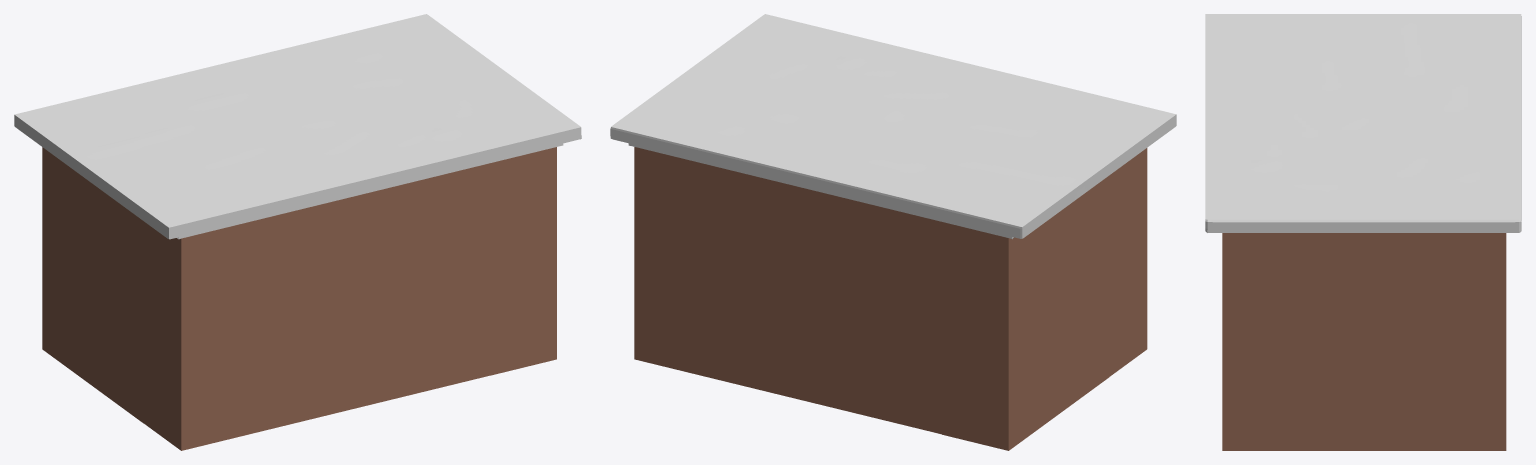
File: Kitchen Counter.fbx
The picture shows the model from 3 angles, left to right: view 1: azimuth 30°, elevation 25°; view 2: azimuth 150°, elevation 25°; view 3: azimuth 270°, elevation 25°; orthographic projection. The views are drawn at different scales.
Parts seen in each view (by area): view 1: Cube.002, Cube, Cube.001, Cube.004; view 2: Cube, Cube.003, Cube.001, Cube.002; view 3: Cube, Cube.004, Cube.003.
Boxes of the visible parts, box(x1,y1,x2,y2) form: Cube.002: box(143, 163, 489, 450); Cube: box(14, 14, 581, 239); Cube.001: box(42, 147, 143, 423); Cube.004: box(490, 147, 556, 375); Cube: box(610, 14, 1176, 239); Cube.003: box(634, 147, 941, 434); Cube.001: box(942, 175, 1109, 450); Cube.002: box(1109, 148, 1147, 376); Cube: box(1205, 14, 1521, 232); Cube.004: box(1222, 233, 1427, 450); Cube.003: box(1427, 233, 1506, 450).
Bounding box in the file's own units: 1236 × 670 × 801.
